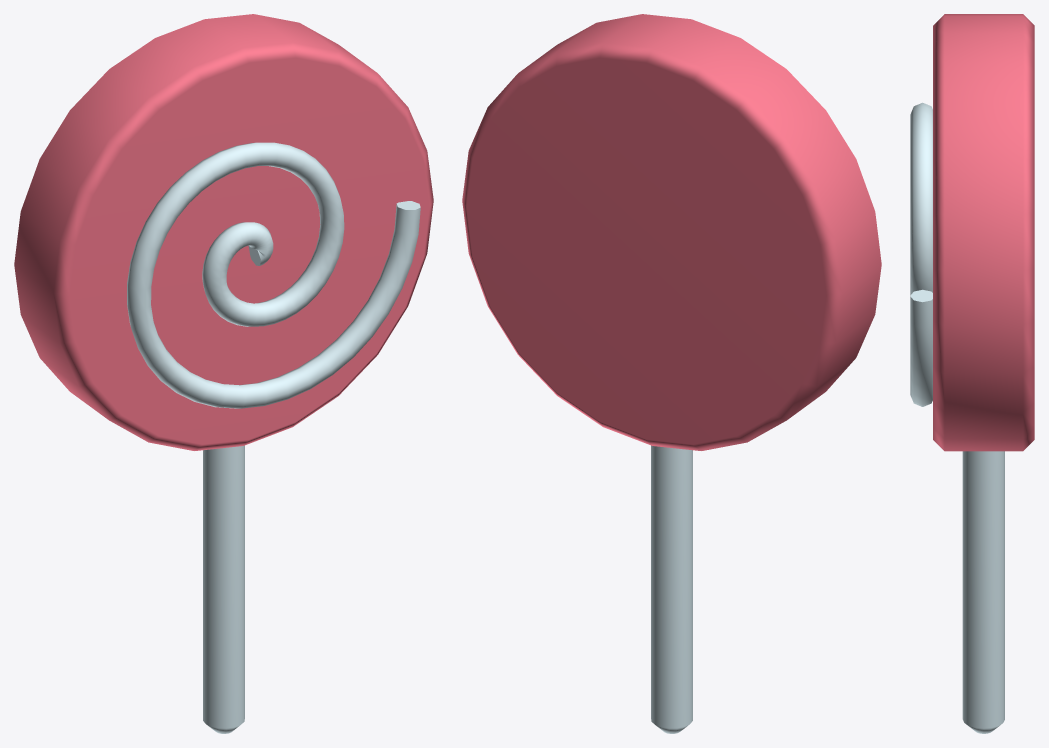
File: lollipop.glb
The picture shows the model from 3 angles, left to right: view 1: azimuth 30°, elevation 25°; view 2: azimuth 150°, elevation 25°; view 3: azimuth 270°, elevation 25°; orthographic projection.
Parts seen in each view (by area): view 1: lollipop; view 2: lollipop; view 3: lollipop.
Boxes of the visible parts, x1,y1,x2,y2 form: lollipop: (14,14,433,733); lollipop: (462,14,881,733); lollipop: (910,14,1034,733).
Bounding box in the file's own units: 0.5714 × 1 × 0.1622.
1 material, 1 textured.
